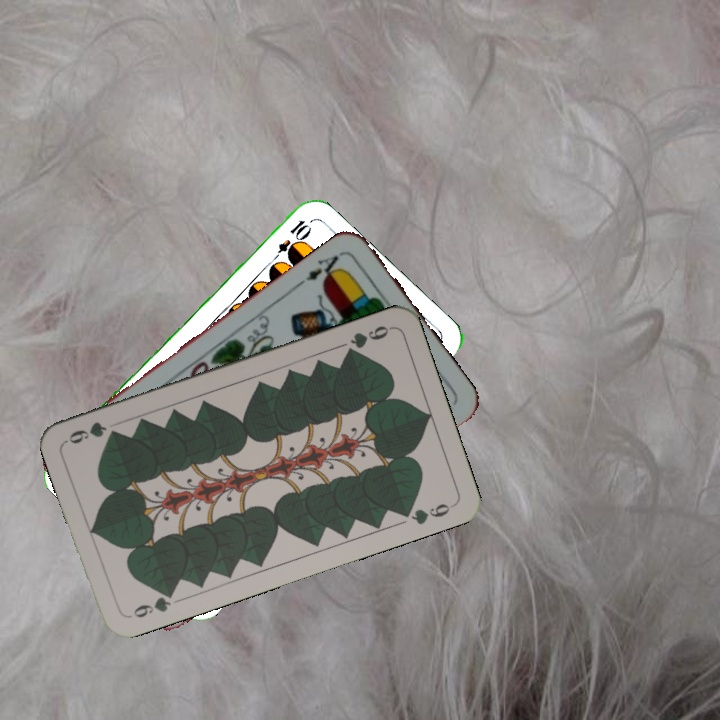E10: (266, 216, 313, 267)
EA: (295, 251, 346, 288)
G9: (341, 321, 395, 358), (129, 585, 178, 621)
